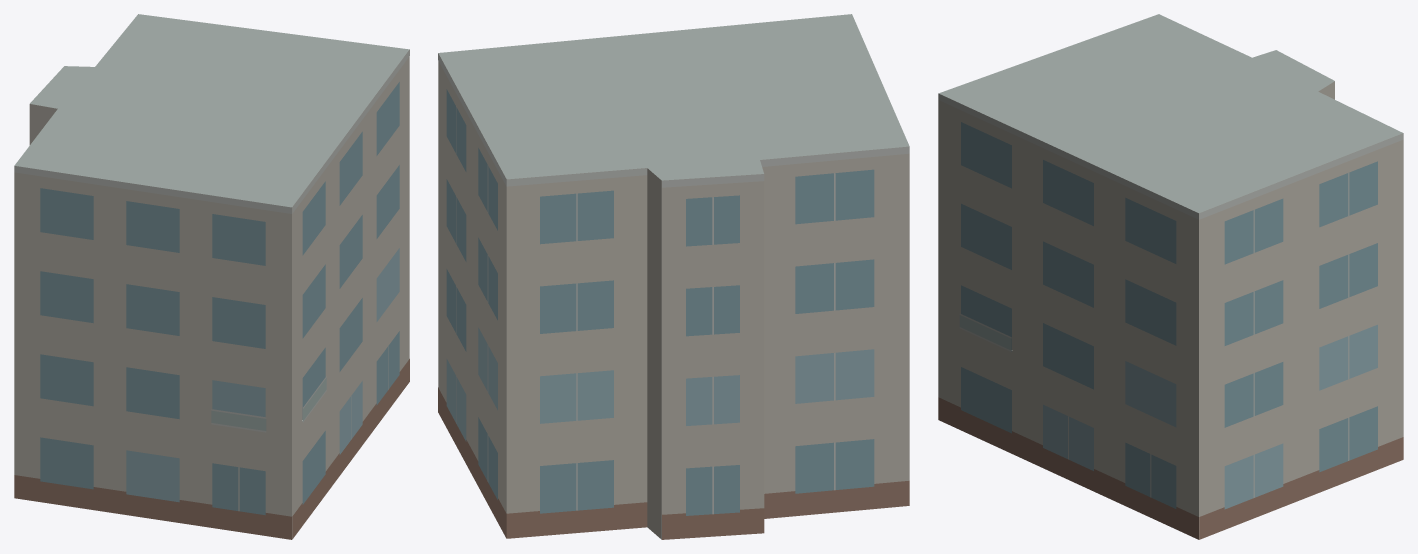
File: survey-upis-32625103.glb
3 renders of one model, left to right at view 1: azimuth 30°, elevation 25°; view 2: azimuth 150°, elevation 25°; view 3: azimuth 270°, elevation 25°, orthographic. The views are drawn at different scales.
Visible parts, largest first — view 1: survey-upis-32625103.tmp; view 2: survey-upis-32625103.tmp; view 3: survey-upis-32625103.tmp.
Part boxes in pixels (box(x1,y1,x2,y2)): survey-upis-32625103.tmp: box(14, 14, 409, 539); survey-upis-32625103.tmp: box(438, 14, 909, 539); survey-upis-32625103.tmp: box(938, 14, 1403, 539).
Size of the model in its own units: 15.98 by 12.2 by 15.75.
